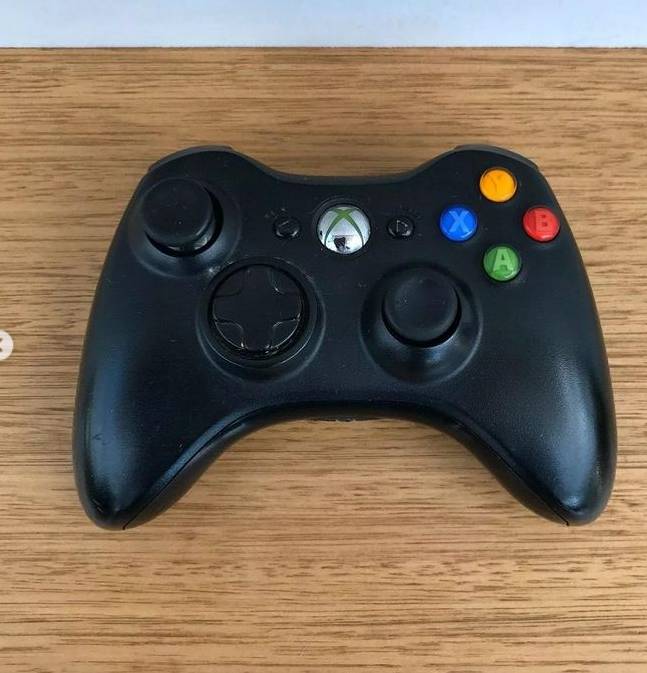gamingconsole: (78, 148, 618, 528)
